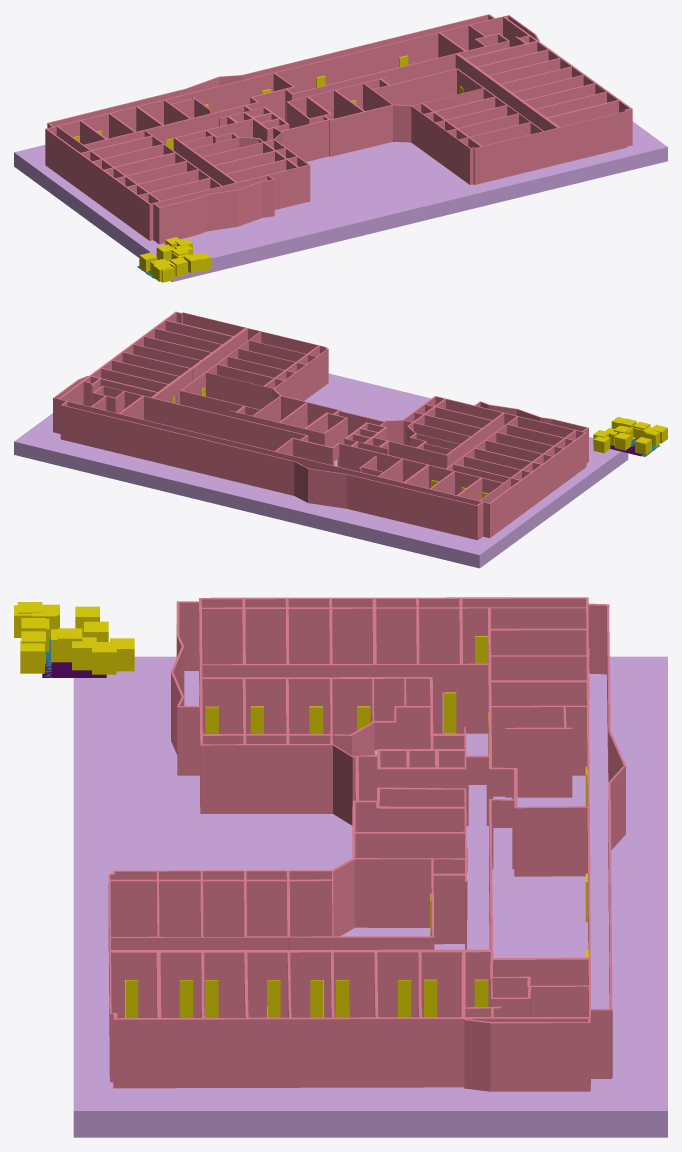
Rendered from output_scene_with_3d_mesh.glb.
The picture shows the model from 3 angles, top to bottom: view 1: azimuth 30°, elevation 25°; view 2: azimuth 150°, elevation 25°; view 3: azimuth 270°, elevation 25°; orthographic projection. The views are drawn at different scales.
Visible parts, largest first — view 1: Ground.004, Ground.003, Ground.002; view 2: Ground.004, Ground.003; view 3: Ground.004, Ground.003, Ground.002, Cube_1, Cube_0.
Boxes of the visible parts, bbox=[...] form: Ground.004: bbox=[45, 14, 632, 244]; Ground.003: bbox=[14, 121, 667, 281]; Ground.002: bbox=[73, 55, 463, 149]; Ground.004: bbox=[53, 311, 588, 540]; Ground.003: bbox=[14, 373, 628, 568]; Ground.004: bbox=[108, 597, 625, 1091]; Ground.003: bbox=[73, 656, 667, 1137]; Ground.002: bbox=[125, 636, 589, 1017]; Cube_1: bbox=[92, 642, 116, 674]; Cube_0: bbox=[20, 641, 44, 673].
Bounding box in the file's own units: 690 × 63.91 × 398.
